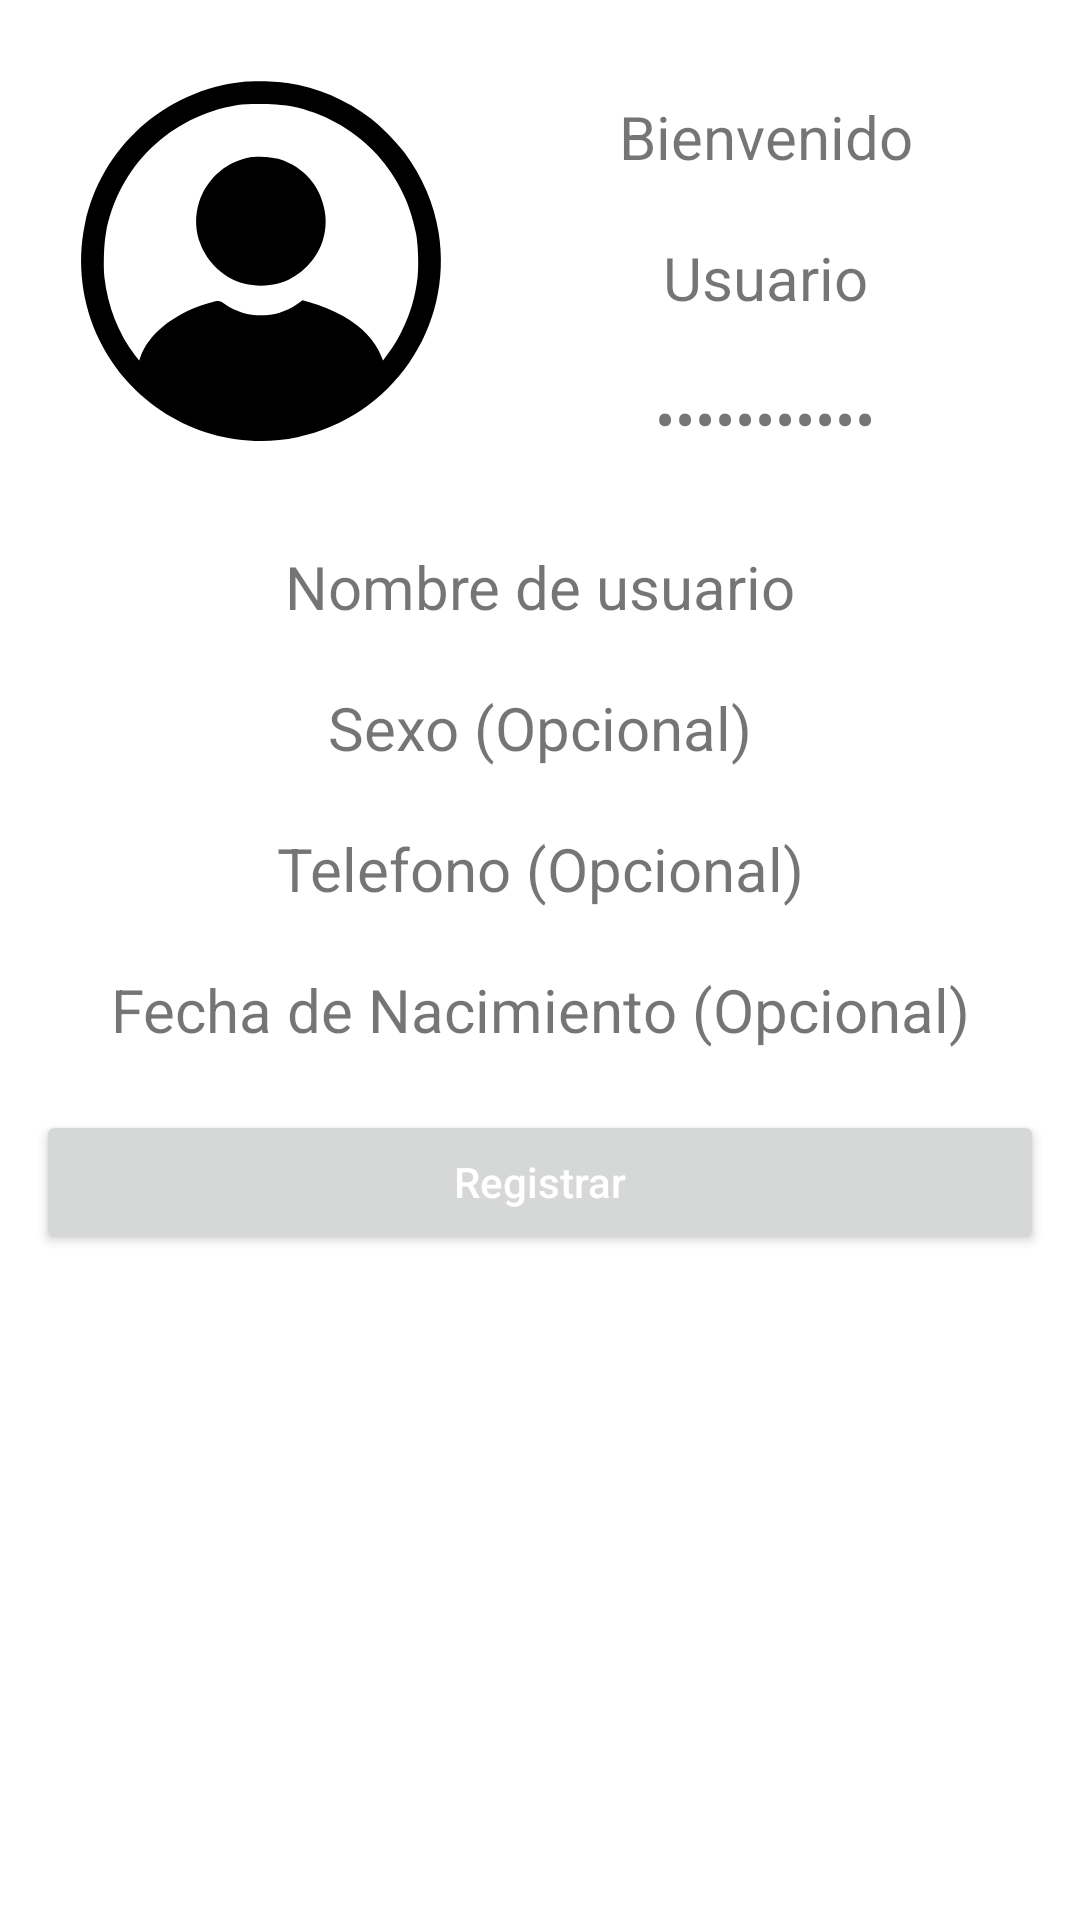

Icons on this 1080x1920 Android screen, each with its box as (x1, y1, x2, y2):
user: (81, 81, 441, 441)
